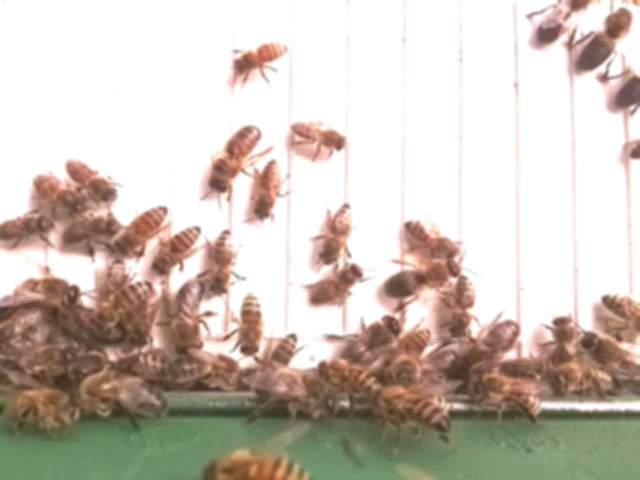Drone: (574, 4, 637, 74), (205, 121, 264, 195), (454, 316, 522, 375), (337, 311, 404, 369), (383, 255, 465, 301), (168, 276, 208, 355), (9, 273, 87, 307)
Worker: (91, 278, 158, 330), (118, 201, 173, 254), (308, 260, 368, 308), (153, 222, 206, 275), (64, 155, 122, 201), (30, 168, 88, 212), (317, 199, 355, 264), (230, 38, 292, 77), (58, 212, 122, 249), (286, 118, 350, 152), (208, 224, 238, 296), (236, 289, 266, 358), (0, 209, 59, 241), (255, 156, 284, 220)
